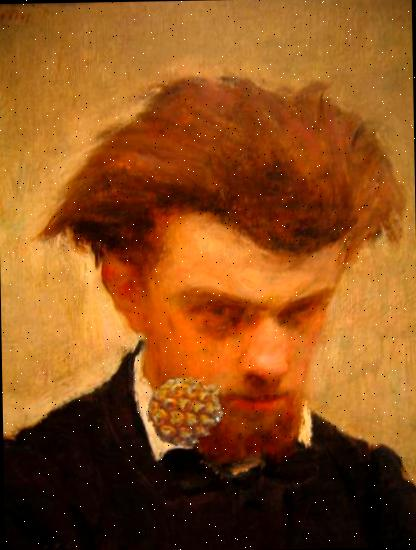Pineapple: (146, 371, 225, 450)
